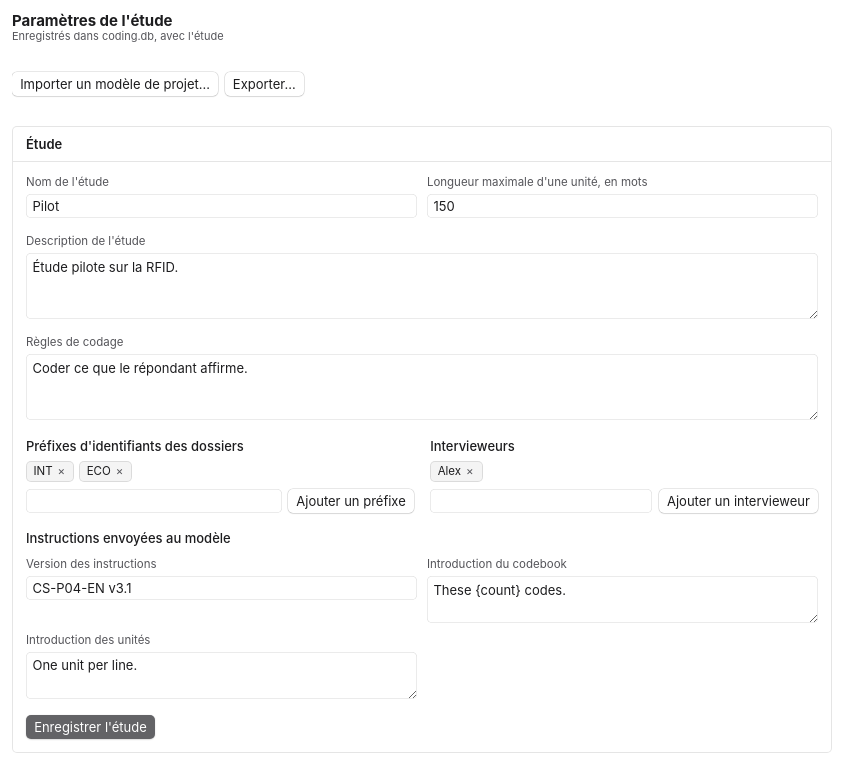
it: study configuration form › shows the server's validation error next to the form
Expected: the field showing "Pilot" is shown, [26,194,417,218]
What coordinates should you click on to do the following:
click the button "Enregistrer l'étude"
I would click on:
 (90, 727)
Its box is [26,715,155,739].
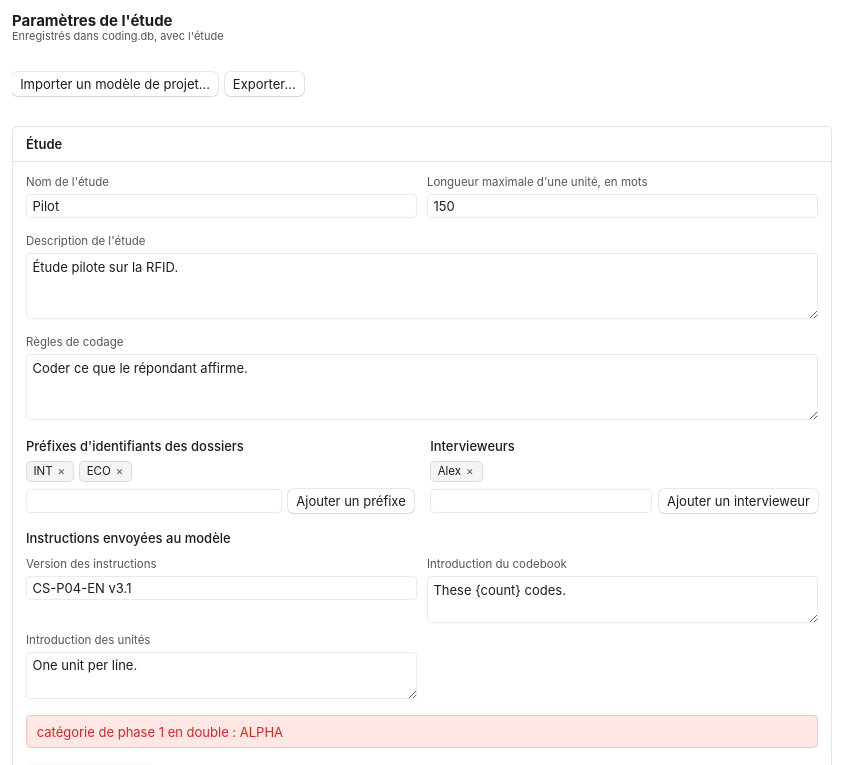
Now the message reads "catégorie de phase 1 en double : ALPHA", box [37,724,283,740]
